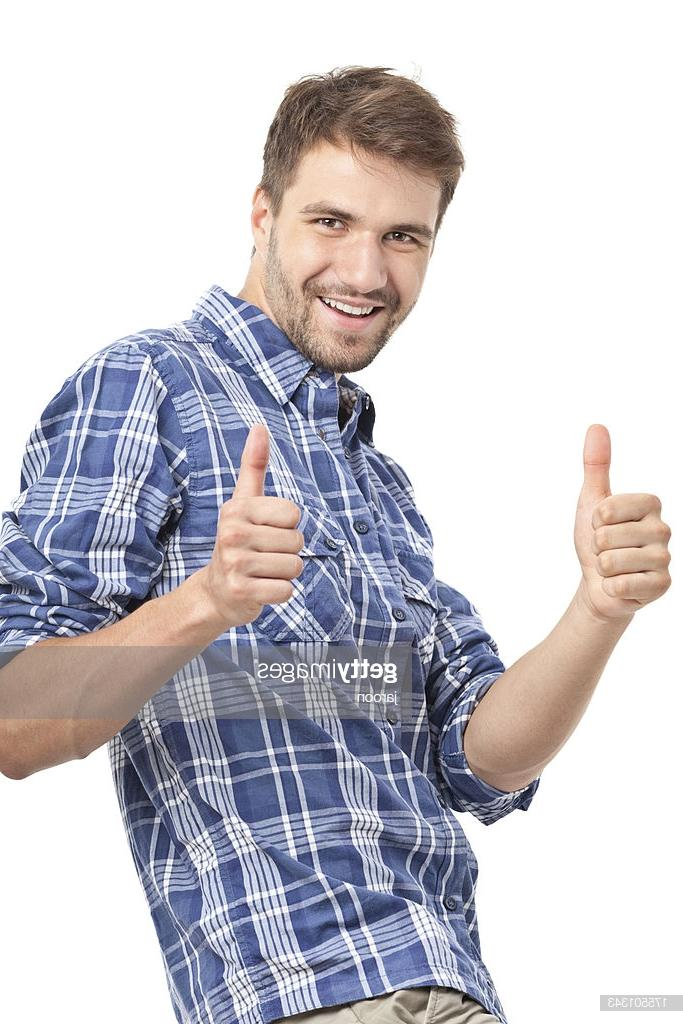thumbsup: (576, 423, 673, 602), (214, 422, 306, 607)
